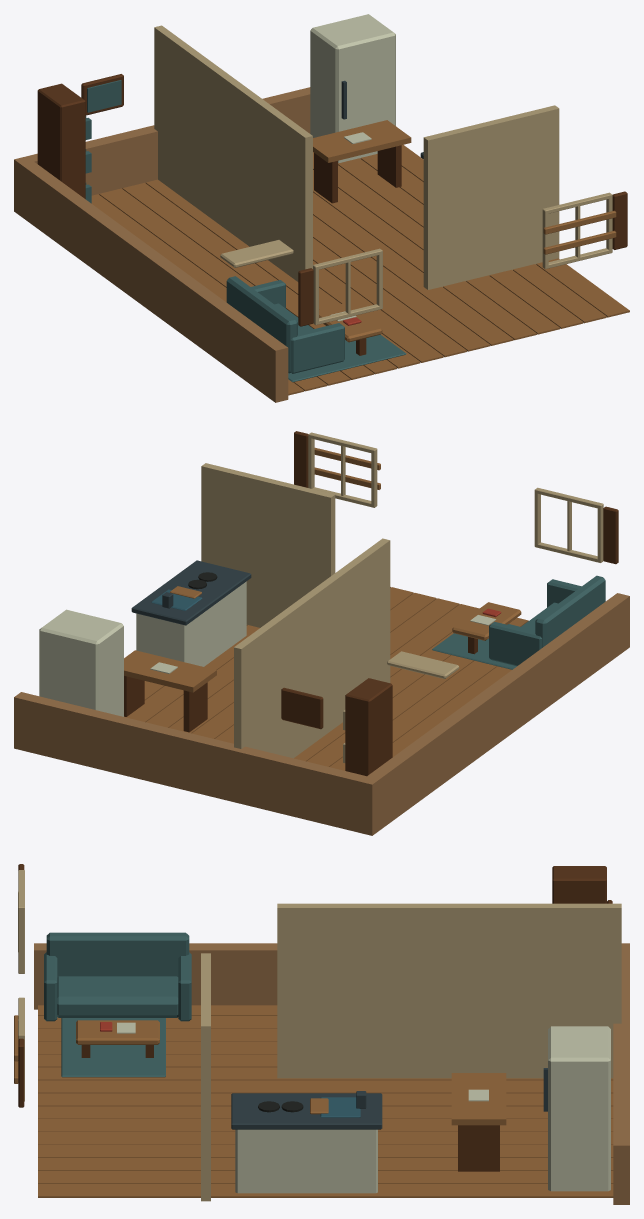
Rendered from house_details.glb.
3 renders of one model, top to bottom at view 1: azimuth 30°, elevation 25°; view 2: azimuth 150°, elevation 25°; view 3: azimuth 270°, elevation 25°, orthographic. The views are drawn at different scales.
Parts seen in each view (by area): view 1: DD_Hide_BedroomWall, DD_Hide_Partition, DD_Cut_West, DD_Keep_Fridge, DD_Cut_Back, DD_Keep_Bookcase, DD_Cut_Partition, DD_Keep_Floorboard.009, DD_Keep_Floorboard.010, DD_Cut_BedroomWall, DD_Keep_Floorboard.011, DD_Keep_Floorboard.008 (+24 smaller); view 2: DD_Cut_Back, DD_Hide_BedroomWall, DD_Cut_West, DD_Hide_Partition, DD_Keep_Fridge, DD_Keep_Kitchen, DD_Keep_Bookcase, DD_Keep_Worktop, DD_Cut_BedroomWall, DD_Keep_Floorboard.003, DD_Keep_SofaBack, DD_Keep_Desk (+21 smaller); view 3: DD_Hide_BedroomWall, DD_Keep_Fridge, DD_Cut_BedroomWall, DD_Keep_Kitchen, DD_Keep_Floorboard.014, DD_Keep_Floorboard.006, DD_Keep_SofaBack, DD_Cut_West, DD_Keep_SofaSeat, DD_Keep_Floorboard.013, DD_Keep_Worktop, DD_Keep_Floorboard.010 (+22 smaller).
Boxes of the visible parts, x1,y1,x2,y2 form: DD_Hide_BedroomWall: (154,25,312,281); DD_Hide_Partition: (423,105,559,289); DD_Cut_West: (17,159,288,402); DD_Keep_Fridge: (310,14,395,163); DD_Cut_Back: (14,87,310,213); DD_Keep_Bookcase: (37,83,85,198); DD_Cut_Partition: (423,229,559,289); DD_Keep_Floorboard.009: (313,192,513,345); DD_Keep_Floorboard.010: (313,170,536,340); DD_Cut_BedroomWall: (158,146,312,280); DD_Keep_Floorboard.011: (313,152,559,334); DD_Keep_Floorboard.008: (313,215,490,351); DD_Cut_Back: (14,692,379,835); DD_Hide_BedroomWall: (234,538,390,757); DD_Cut_West: (364,593,629,832); DD_Hide_Partition: (201,463,335,627); DD_Keep_Fridge: (39,609,123,716); DD_Keep_Kitchen: (136,581,246,666); DD_Keep_Bookcase: (345,678,392,776); DD_Keep_Worktop: (131,560,251,625); DD_Cut_BedroomWall: (260,655,390,758); DD_Keep_Floorboard.003: (330,661,496,770); DD_Keep_SofaBack: (535,575,605,647); DD_Keep_Desk: (124,650,216,692); DD_Hide_BedroomWall: (277,903,621,1078); DD_Keep_Fridge: (548,1026,610,1191); DD_Cut_BedroomWall: (277,1040,613,1078); DD_Keep_Kitchen: (235,1129,377,1193); DD_Keep_Floorboard.014: (38,1184,613,1197); DD_Keep_Floorboard.006: (38,1080,613,1093); DD_Keep_SofaBack: (46,932,189,977); DD_Cut_West: (34,943,277,1009); DD_Keep_SofaSeat: (57,976,178,1017); DD_Keep_Floorboard.013: (38,1171,613,1183); DD_Keep_Worktop: (231,1093,382,1129); DD_Keep_Floorboard.010: (38,1132,613,1144).
Bounding box in the file's own units: 5.7 × 2.3 × 7.34.
